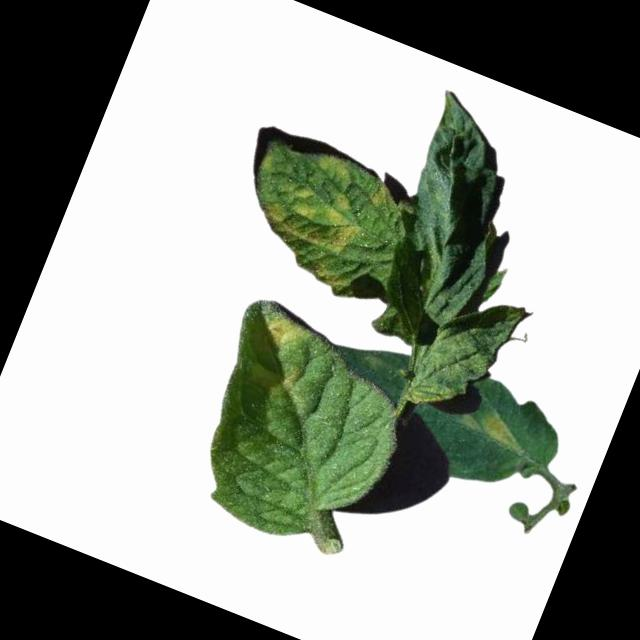Leaf_Mold: (245, 172, 366, 290), (454, 401, 533, 457), (264, 310, 312, 355), (312, 148, 356, 184), (279, 363, 307, 398), (369, 179, 397, 209)
